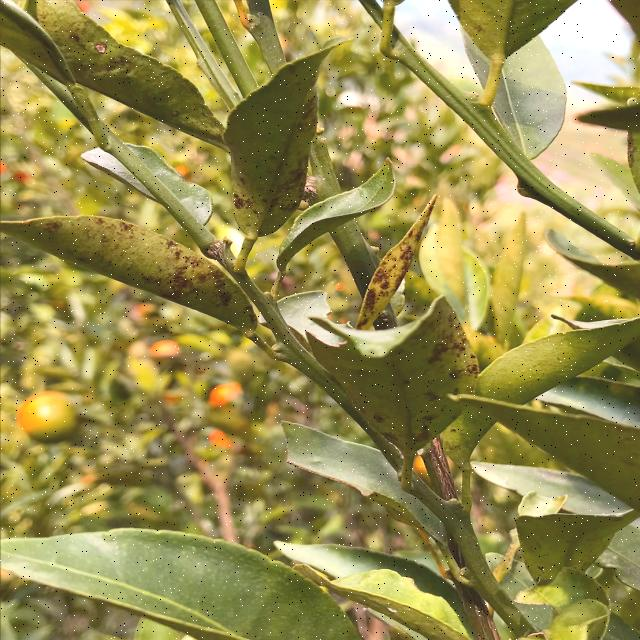melanose: (0, 209, 260, 329), (209, 35, 337, 235), (335, 294, 493, 448), (350, 190, 446, 323)
